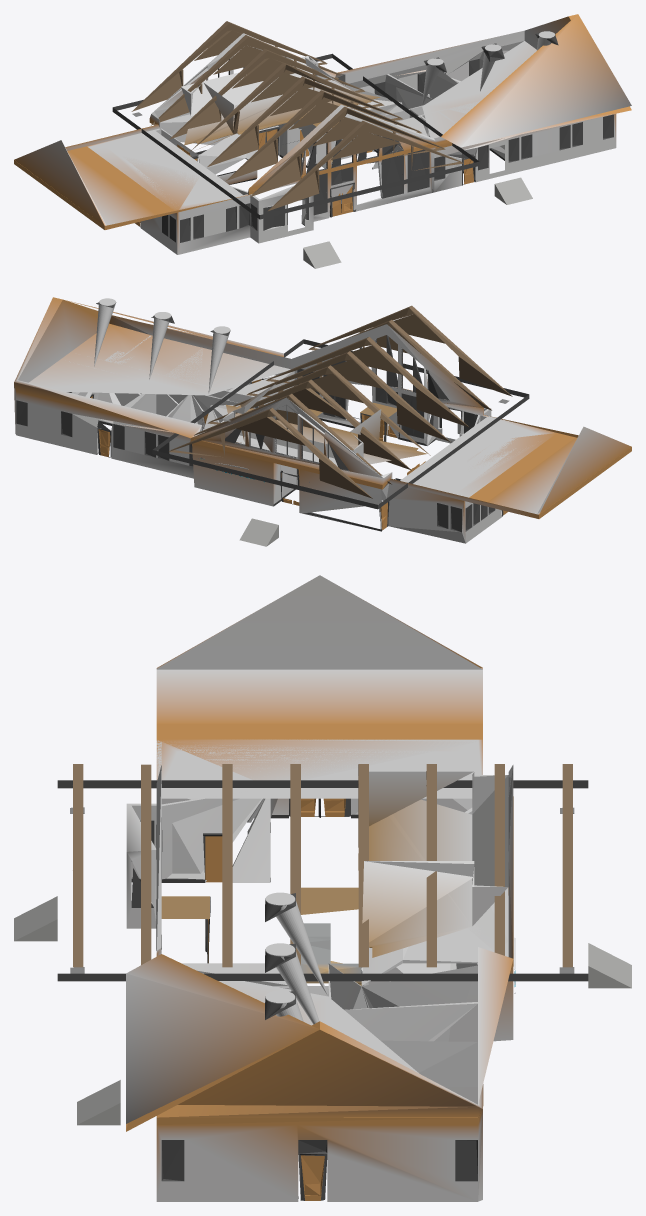
File: terminal.access-v6.lod2.glb
3 renders of one model, top to bottom at view 1: azimuth 30°, elevation 25°; view 2: azimuth 150°, elevation 25°; view 3: azimuth 270°, elevation 25°, orthographic. The views are drawn at different scales.
Parts seen in each view (by area): view 1: Mesh1_Metal_Aluminum_Anodized_0; view 2: Mesh1_Metal_Aluminum_Anodized_0; view 3: Mesh1_Metal_Aluminum_Anodized_0.
Boxes of the visible parts, bbox=[...] form: Mesh1_Metal_Aluminum_Anodized_0: bbox=[14, 14, 631, 268]; Mesh1_Metal_Aluminum_Anodized_0: bbox=[14, 297, 631, 546]; Mesh1_Metal_Aluminum_Anodized_0: bbox=[14, 575, 631, 1201].
Bounding box in the file's own units: 39.46 × 8.58 × 22.6.
